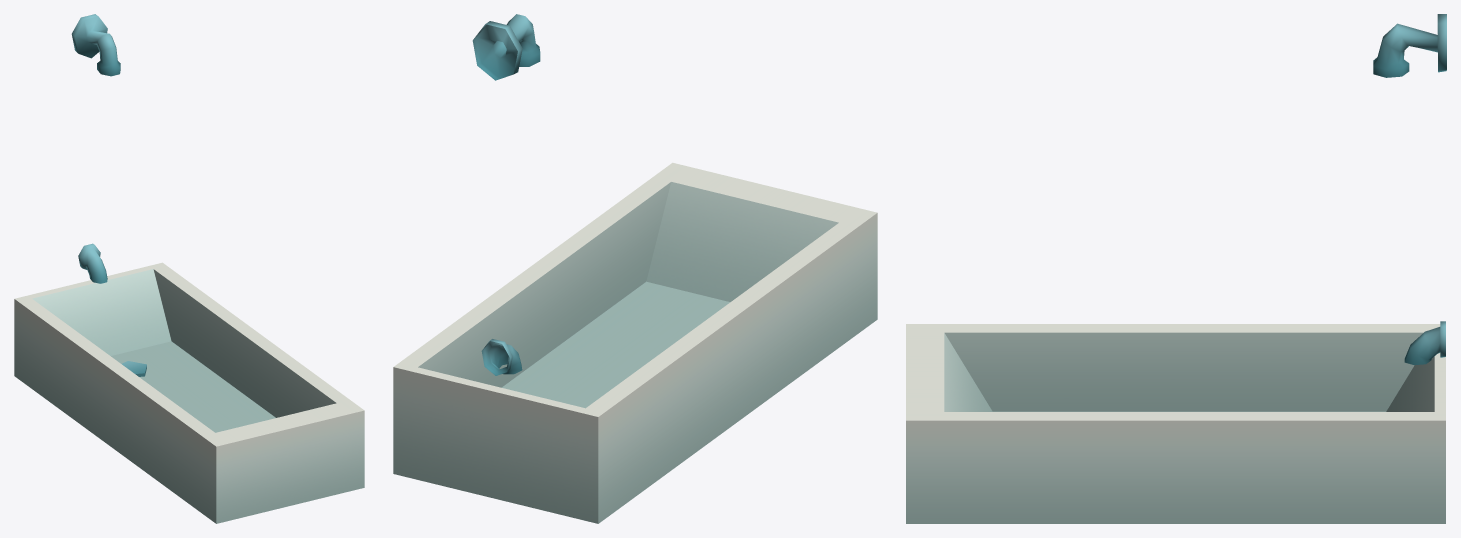
Rendered from Prop_BathTub.fbx.
3 renders of one model, left to right at view 1: azimuth 30°, elevation 25°; view 2: azimuth 150°, elevation 25°; view 3: azimuth 270°, elevation 25°, orthographic. The views are drawn at different scales.
Visible parts, largest first — view 1: Prop_Bathtub; view 2: Prop_Bathtub; view 3: Prop_Bathtub.
Boxes of the visible parts, box(x1,y1,x2,y2) form: Prop_Bathtub: box(14, 14, 364, 523); Prop_Bathtub: box(393, 14, 877, 523); Prop_Bathtub: box(906, 14, 1446, 523).
Size of the model in its own units: 201 by 442 by 475.
